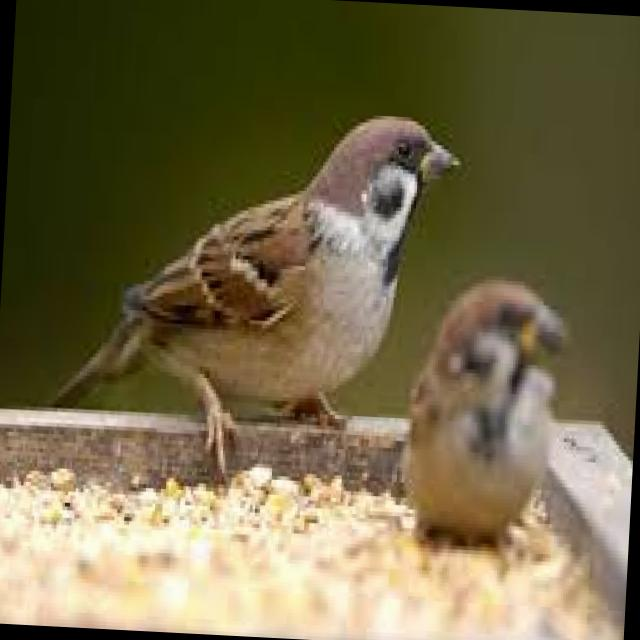bird: (43, 88, 464, 490), (392, 278, 575, 556)
